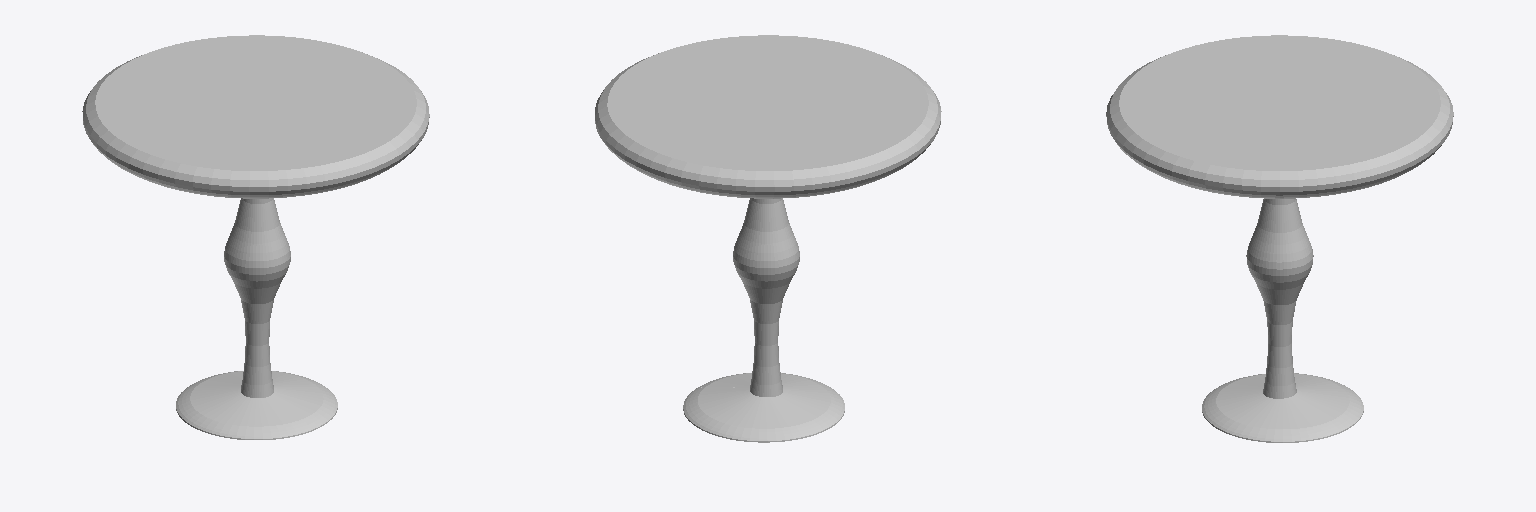
The model's file is t_table.obj.
3 renders of one model, left to right at view 1: azimuth 30°, elevation 25°; view 2: azimuth 150°, elevation 25°; view 3: azimuth 270°, elevation 25°, orthographic.
Bounding box in the file's own units: 0.9998 × 0.9691 × 0.9998.